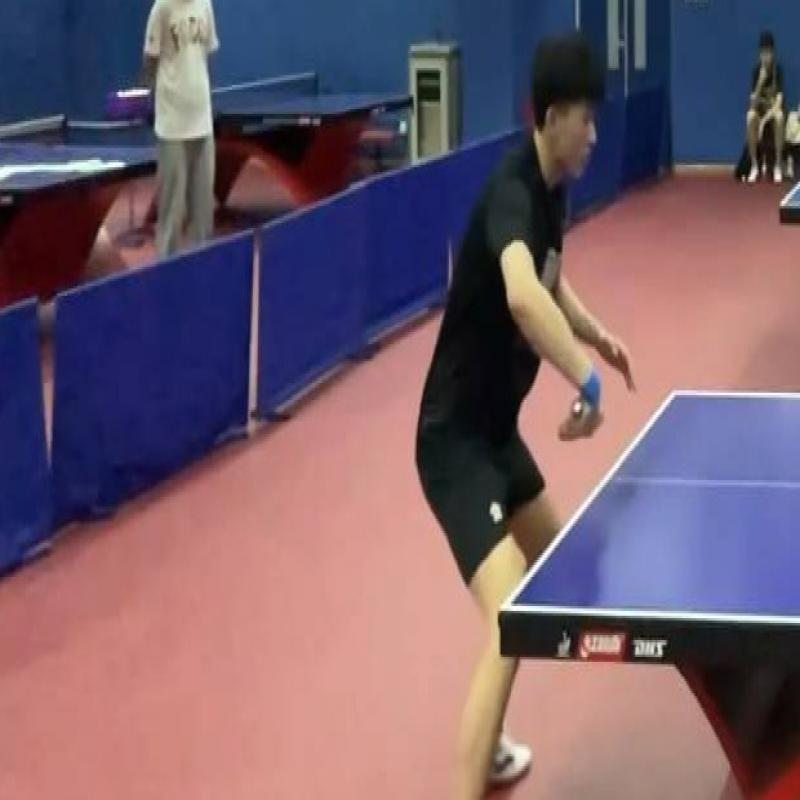bats: (552, 385, 610, 451)
